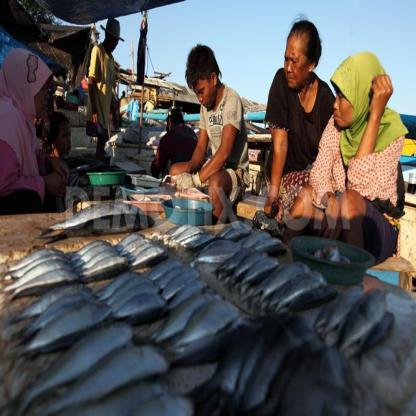face: (285, 38, 309, 89), (334, 78, 357, 127), (31, 76, 50, 118), (195, 79, 215, 107), (57, 124, 72, 155), (108, 35, 119, 52)
